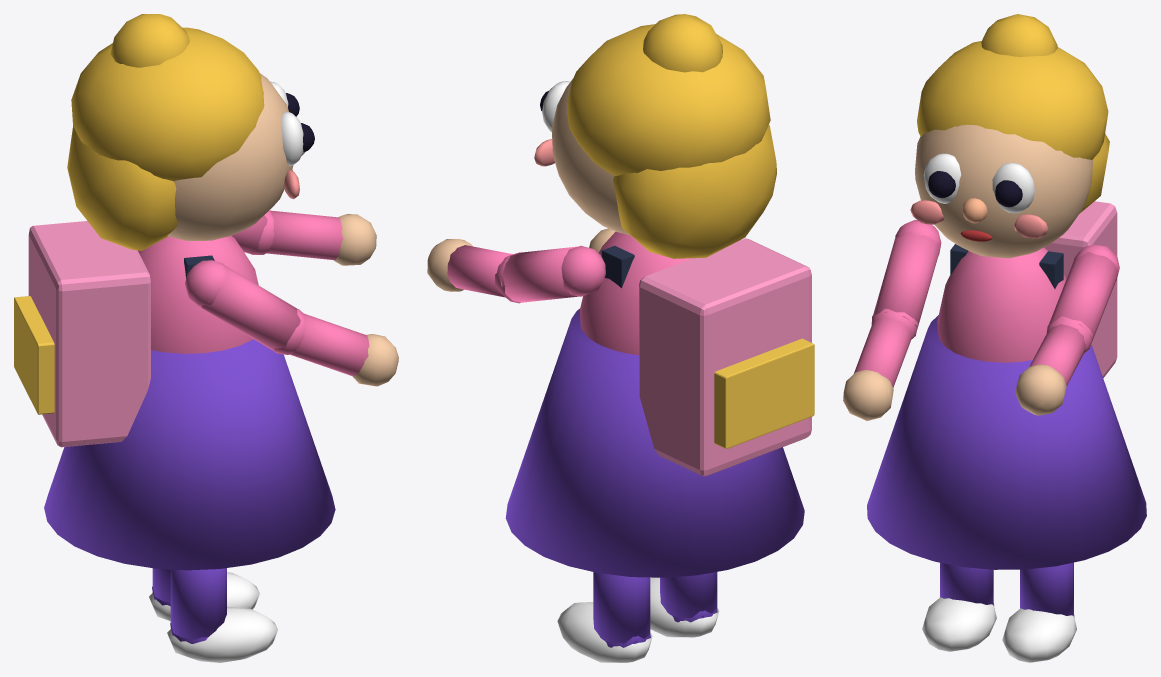
The model's file is hrdina_1_radost.glb.
3 renders of one model, left to right at view 1: azimuth 30°, elevation 25°; view 2: azimuth 150°, elevation 25°; view 3: azimuth 270°, elevation 25°, orthographic. The views are drawn at different scales.
Visible parts, largest first — view 1: Cone, Cube, Sphere.010, Sphere.001, Sphere.011, Sphere, Cylinder, Cube.001, Cylinder.005, Sphere.025, Sphere.012, Cylinder.003 (+8 smaller); view 2: Cone, Cube, Sphere.010, Sphere.011, Cube.001, Sphere, Sphere.001, Cylinder.007, Sphere.012, Cylinder.002, Sphere.030, Cylinder.005 (+6 smaller); view 3: Cone, Sphere.010, Sphere.001, Sphere, Cube, Cylinder, Cylinder.002, Sphere.030, Sphere.025, Sphere.012, Cylinder.007, Cylinder.001 (+16 smaller).
Boxes of the visible parts, bbox=[...] form: Cone: bbox=[44, 339, 335, 570]; Cube: bbox=[28, 221, 150, 447]; Sphere.010: bbox=[71, 27, 264, 181]; Sphere.001: bbox=[167, 73, 293, 240]; Sphere.011: bbox=[67, 126, 177, 250]; Sphere: bbox=[138, 235, 258, 353]; Cylinder: bbox=[201, 265, 301, 351]; Cube.001: bbox=[14, 296, 54, 414]; Cylinder.005: bbox=[170, 568, 226, 639]; Sphere.025: bbox=[167, 607, 277, 662]; Sphere.012: bbox=[110, 14, 189, 67]; Cylinder.003: bbox=[266, 210, 343, 259]; Cone: bbox=[505, 308, 804, 577]; Cube: bbox=[639, 238, 811, 476]; Sphere.010: bbox=[567, 24, 770, 175]; Sphere.011: bbox=[613, 125, 776, 258]; Cube.001: bbox=[714, 338, 814, 448]; Sphere: bbox=[579, 231, 691, 355]; Sphere.001: bbox=[552, 79, 629, 234]; Cylinder.007: bbox=[593, 572, 650, 643]; Sphere.012: bbox=[643, 14, 722, 72]; Cylinder.002: bbox=[500, 246, 584, 302]; Sphere.030: bbox=[557, 602, 652, 662]; Cylinder.005: bbox=[660, 572, 717, 617]; Cone: bbox=[867, 315, 1146, 569]; Sphere.010: bbox=[917, 41, 1108, 159]; Sphere.001: bbox=[915, 124, 1092, 258]; Sphere: bbox=[937, 247, 1066, 362]; Cube: bbox=[1044, 201, 1117, 377]; Cylinder: bbox=[873, 232, 939, 329]; Cylinder.002: bbox=[1049, 252, 1118, 343]; Sphere.030: bbox=[1002, 608, 1076, 662]; Sphere.025: bbox=[922, 597, 996, 651]; Sphere.012: bbox=[981, 14, 1057, 56]; Cylinder.007: bbox=[1020, 562, 1073, 615]; Cylinder.001: bbox=[854, 317, 911, 387].
Bounding box in the file's own units: 0.7746 × 1.31 × 0.5966.
